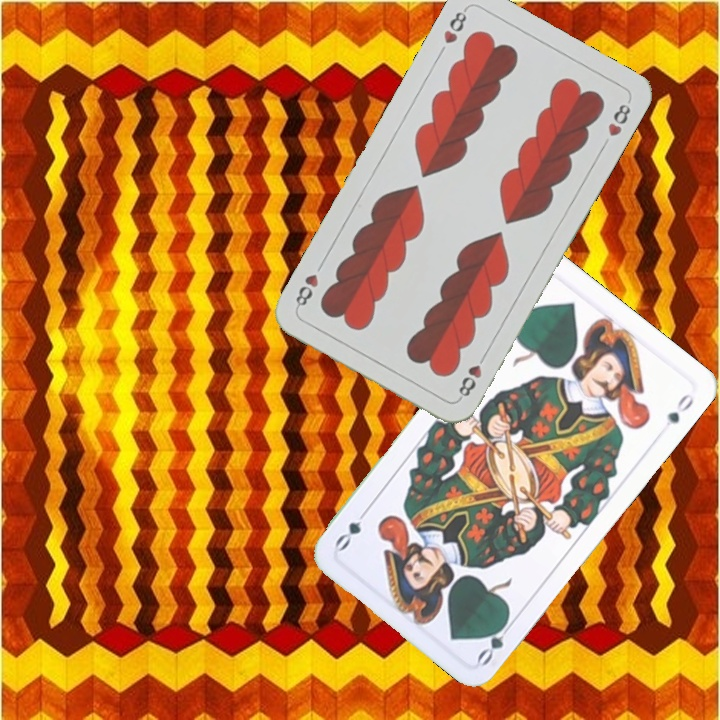GO: (473, 613, 517, 668)
H8: (454, 348, 490, 402), (439, 4, 470, 47)
